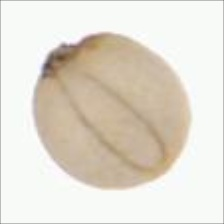L5: (59, 67, 166, 171), (35, 32, 105, 87), (133, 135, 189, 187)
L6: (32, 30, 195, 191)
